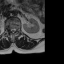CCS_stenosis: (12, 26, 14, 34)
LFS_severe_stenosis: (16, 26, 18, 33)
LLS_normal: (14, 26, 16, 33)
RFS_severe_stenosis: (8, 26, 10, 31)
RLS_normal: (10, 27, 12, 33)
